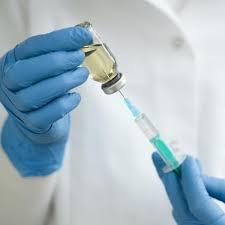Glove: (0, 26, 91, 175), (153, 153, 224, 224)
Iv_Bottle: (77, 22, 125, 93)
Syringe: (120, 91, 185, 175)
